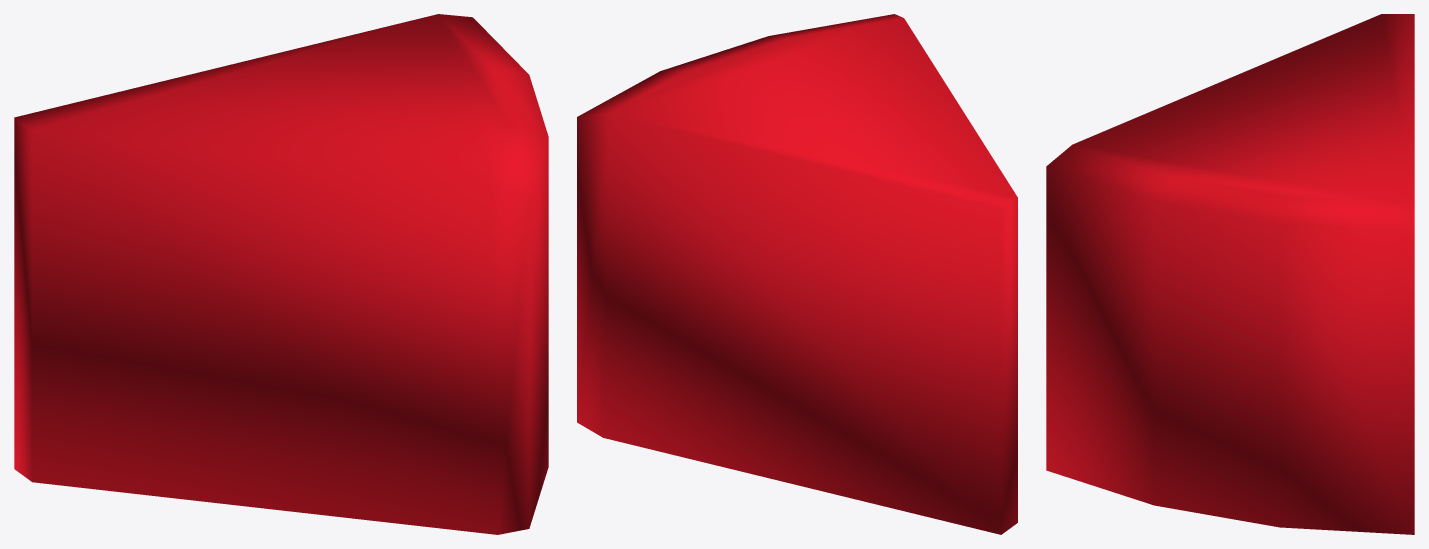
File: SpicchioFormaggioStagionato.fbx
3 renders of one model, left to right at view 1: azimuth 30°, elevation 25°; view 2: azimuth 150°, elevation 25°; view 3: azimuth 270°, elevation 25°, orthographic. The views are drawn at different scales.
Parts seen in each view (by area): view 1: SpicchioFormaggio.001; view 2: SpicchioFormaggio.001; view 3: SpicchioFormaggio.001.
Part boxes in pixels (x1=…): SpicchioFormaggio.001: x1=14, y1=14, x2=548, y2=534; SpicchioFormaggio.001: x1=577, y1=14, x2=1017, y2=534; SpicchioFormaggio.001: x1=1046, y1=14, x2=1414, y2=534.
Bounding box in the file's own units: 365 × 267 × 275.
